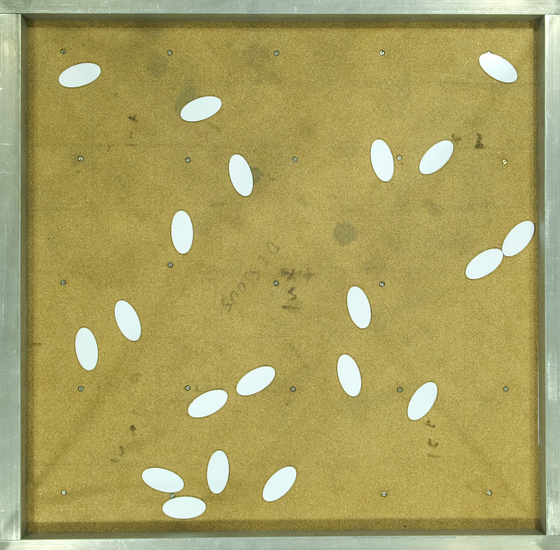pallet: (55, 51, 103, 99), (499, 213, 547, 261), (159, 207, 207, 255), (474, 44, 522, 92), (409, 132, 457, 180), (357, 137, 405, 185), (216, 149, 264, 197), (178, 81, 226, 129), (231, 358, 279, 406), (322, 349, 370, 397), (398, 375, 446, 423), (58, 326, 106, 374), (104, 295, 152, 343), (333, 282, 381, 330), (458, 240, 506, 288), (160, 483, 208, 531), (138, 453, 186, 501), (198, 446, 246, 494), (180, 375, 228, 423), (256, 460, 304, 508)
